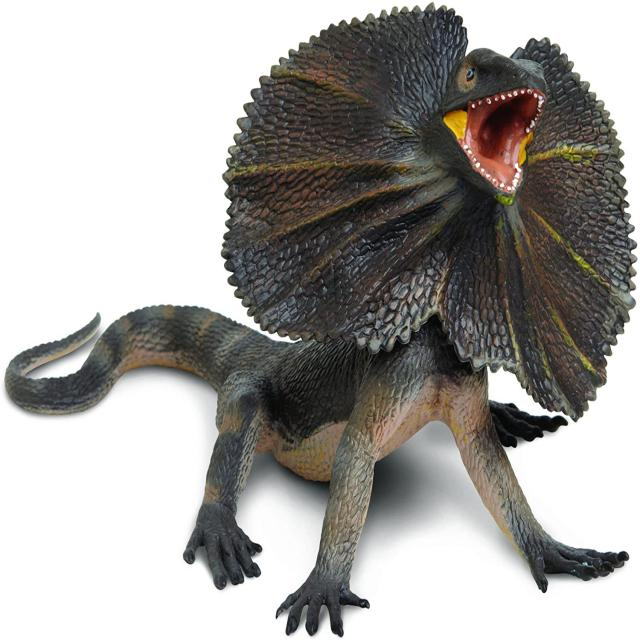Lizard: (4, 9, 635, 608)
